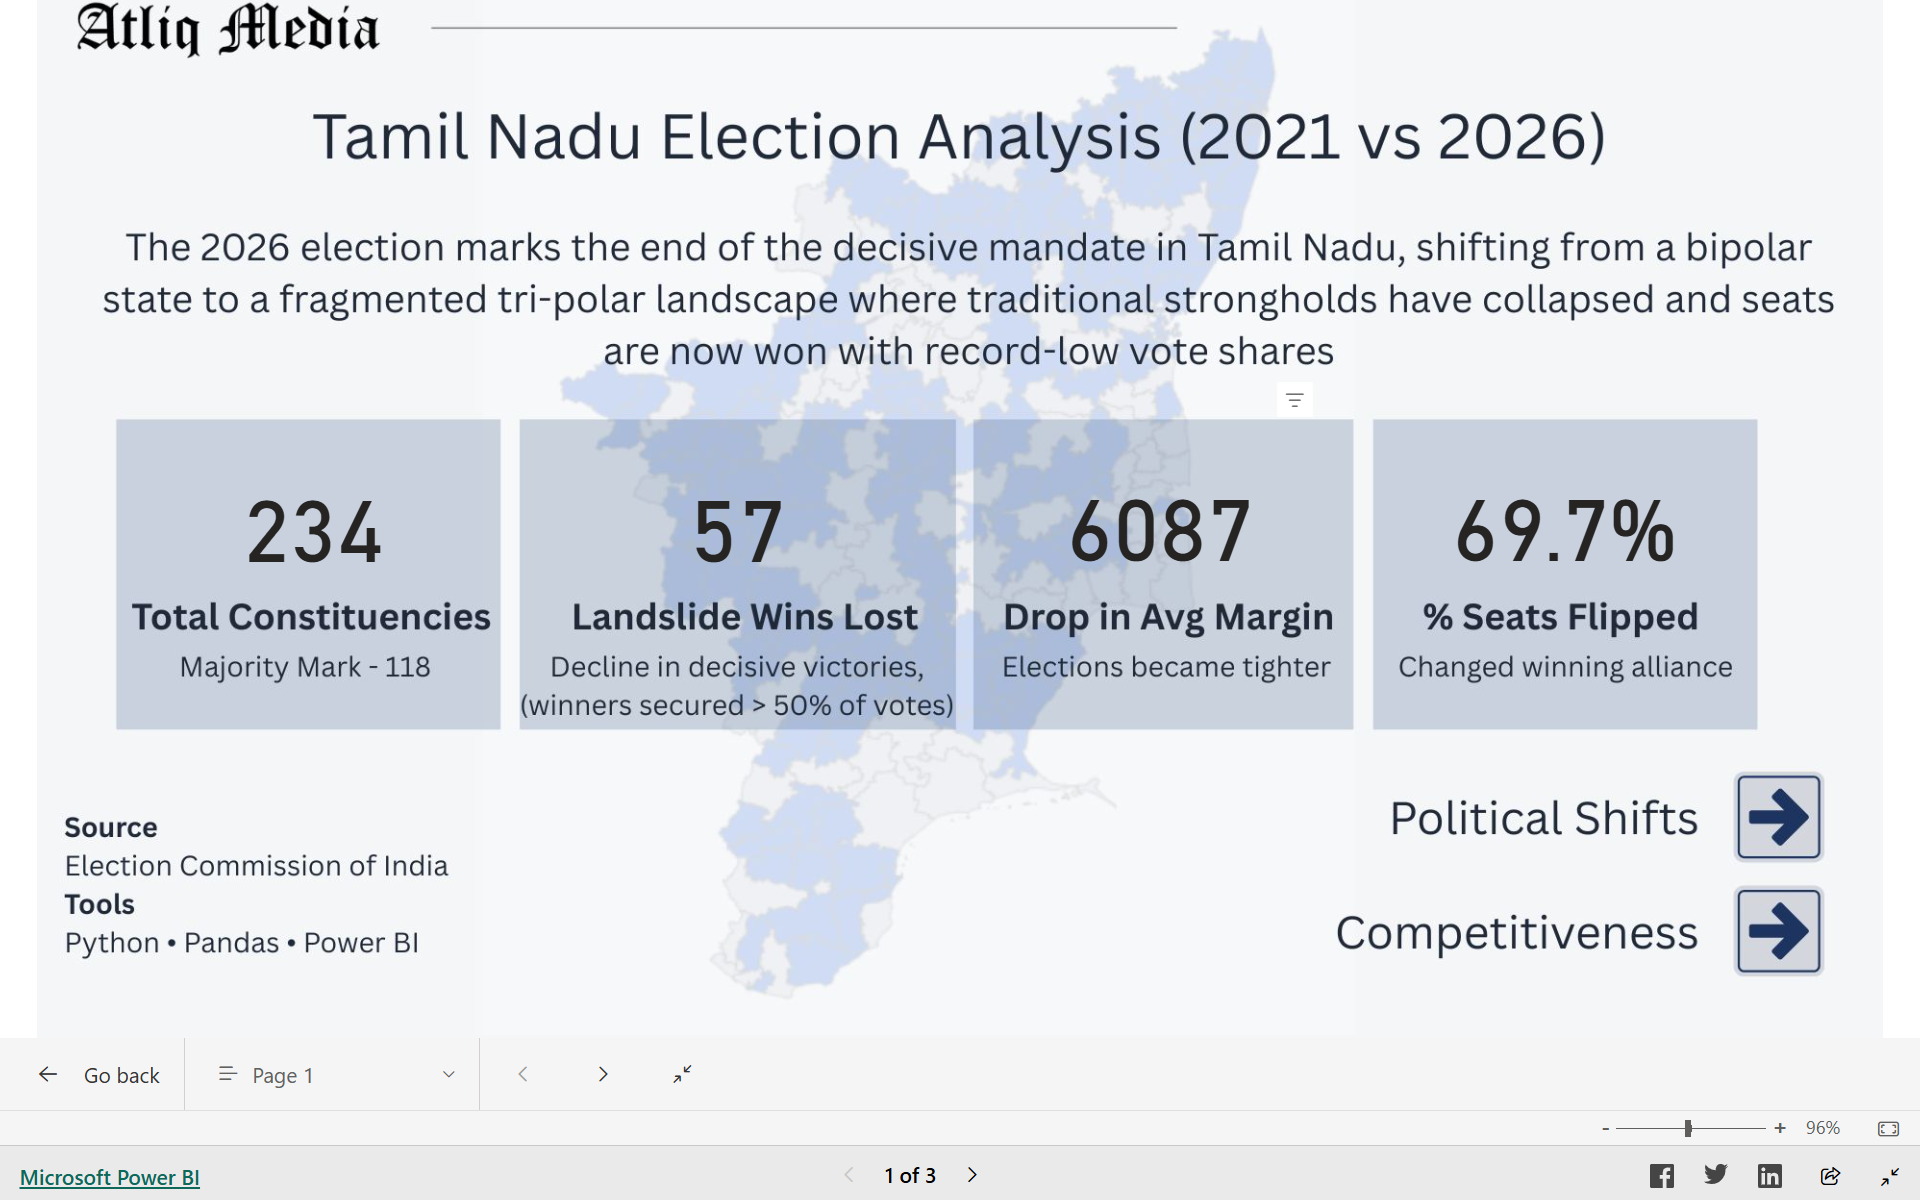

The page's visual inventory and layout, read from the dashboard file:
{"tool":"powerbi","page":{"name":"Page 1","canvas":[1280,720],"ordinal":0},"visuals":[{"type":"card","fields":{"Values":["CountNonNull(flip_analysis.ac_number)"]},"box":[85.1,289.8,212.6,140.2],"z":0},{"type":"card","fields":{"Values":["Table.Drop in Avg Margin"]},"box":[671.1,289.9,214.4,139],"z":1000},{"type":"card","fields":{"Values":["Table.Percent Flipped"]},"box":[953.1,289.9,212.5,139],"z":2000},{"type":"card","fields":{"Values":["Table.Landslide Wins Lost"]},"box":[376.4,289.8,215.8,140.2],"z":3000},{"type":"shape","box":[899.2,524.6,350.4,79],"z":4000},{"type":"shape","box":[885.1,603.5,350.4,79],"z":5000}]}

Visuals, with their boxes on the page's 1280x720 design canvas (x1, y1, x2, y2). These are canvas units, not pixel positions in the 1920x1200 screenshot, which may show the page scaled, cropped or inside an application window:
card - CountNonNull(flip_analysis.ac_number): {"x1": 85, "y1": 290, "x2": 298, "y2": 430}
card - Table.Drop in Avg Margin: {"x1": 671, "y1": 290, "x2": 886, "y2": 429}
card - Table.Percent Flipped: {"x1": 953, "y1": 290, "x2": 1166, "y2": 429}
card - Table.Landslide Wins Lost: {"x1": 376, "y1": 290, "x2": 592, "y2": 430}
shape: {"x1": 899, "y1": 525, "x2": 1250, "y2": 604}
shape: {"x1": 885, "y1": 604, "x2": 1236, "y2": 682}
